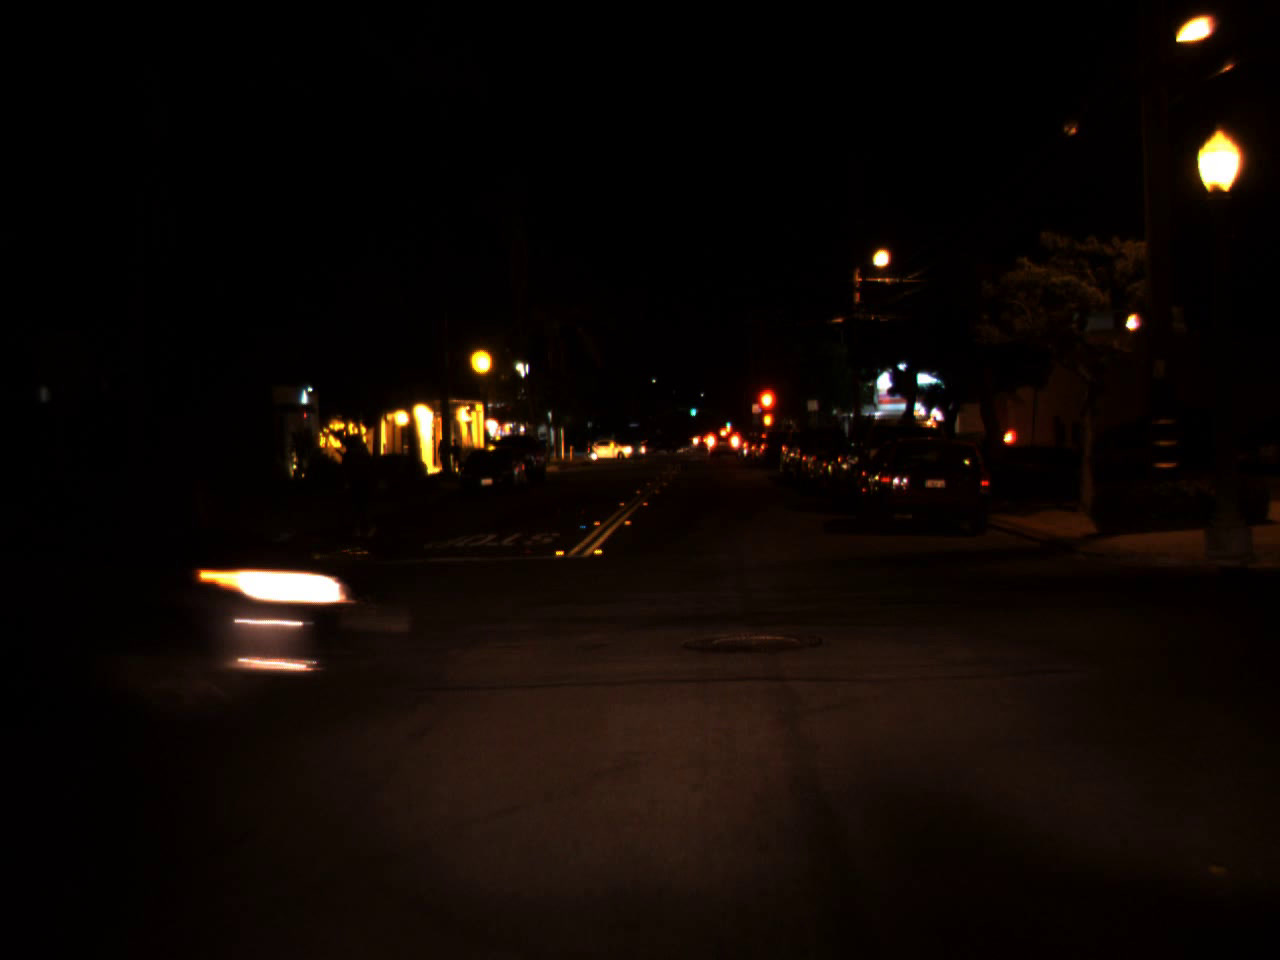go: (687, 400, 696, 415), (724, 415, 731, 427)
stop: (755, 386, 779, 434)
